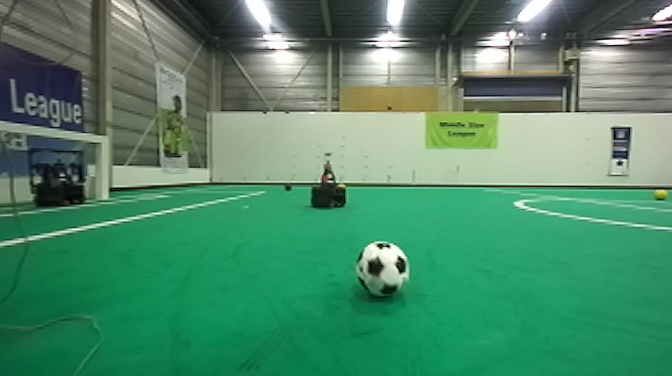ball: (354, 239, 412, 300), (653, 187, 669, 202)
goalpost: (96, 133, 111, 201)
robot: (25, 143, 90, 205), (310, 151, 350, 212)
